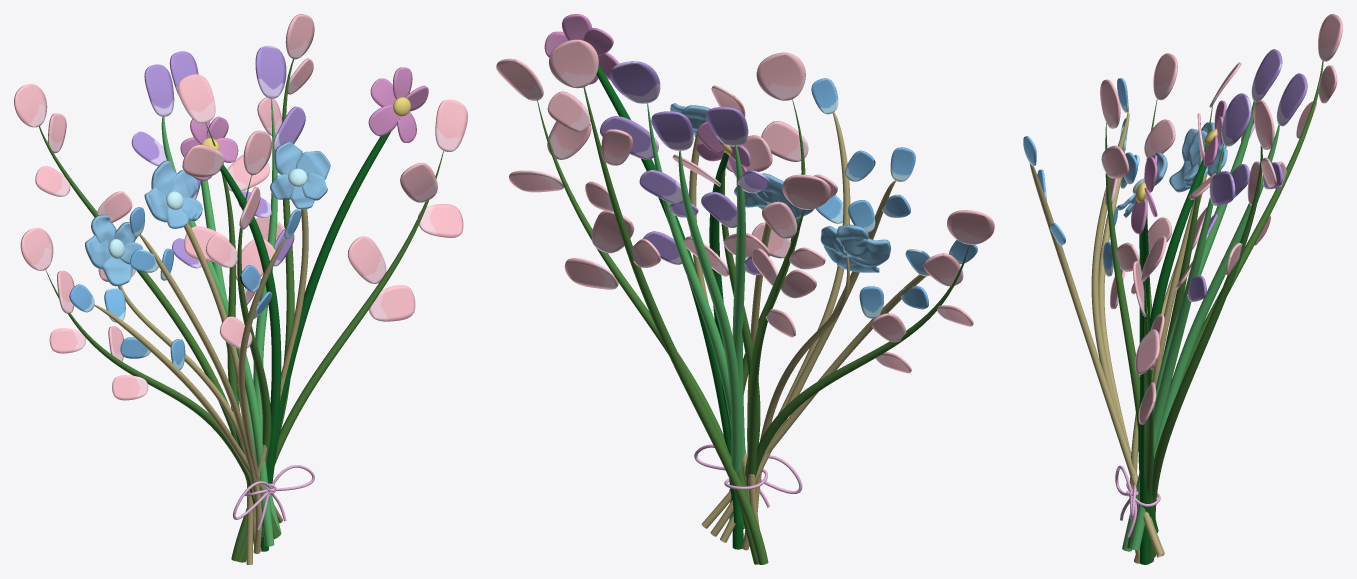
The model's file is bouqet.glb.
3 renders of one model, left to right at view 1: azimuth 30°, elevation 25°; view 2: azimuth 150°, elevation 25°; view 3: azimuth 270°, elevation 25°, orthographic. The views are drawn at different scales.
Visible parts, largest first — view 1: Plane.015, Plane.043, Plane.057, Plane.040, NurbsPath.006, NurbsPath.007, NurbsPath.017, NurbsPath.008, NurbsPath.004, NurbsPath.012, NurbsPath.019, NurbsPath.005 (+33 smaller); view 2: Plane.043, Plane.057, NurbsPath.018, Plane.015, NurbsPath.009, Plane.040, NurbsPath.008, NurbsPath.017, NurbsPath.010, NurbsPath.005, NurbsPath.004, NurbsPath.006 (+29 smaller); view 3: Plane.043, NurbsPath.009, NurbsPath.018, NurbsPath.008, NurbsPath.011, Plane.015, Plane.057, NurbsPath.019, NurbsPath.012, NurbsPath.007, NurbsPath.006, NurbsPath.013 (+21 smaller).
Boxes of the visible parts, x1,y1,x2,y2 form: Plane.015: [85, 142, 330, 286]; Plane.043: [131, 45, 305, 268]; Plane.057: [69, 207, 301, 369]; Plane.040: [180, 67, 428, 180]; NurbsPath.006: [260, 132, 390, 551]; NurbsPath.007: [220, 165, 281, 479]; NurbsPath.017: [243, 151, 443, 562]; NurbsPath.008: [253, 98, 277, 546]; NurbsPath.004: [39, 126, 262, 528]; NurbsPath.012: [139, 234, 256, 498]; NurbsPath.019: [236, 175, 271, 562]; NurbsPath.005: [45, 270, 278, 539]; Plane.043: [600, 61, 769, 275]; Plane.057: [811, 78, 977, 318]; NurbsPath.018: [583, 87, 768, 564]; Plane.015: [670, 103, 890, 272]; NurbsPath.009: [678, 151, 741, 519]; Plane.040: [544, 14, 750, 177]; NurbsPath.008: [647, 103, 745, 457]; NurbsPath.017: [536, 98, 758, 564]; NurbsPath.010: [732, 144, 745, 527]; NurbsPath.005: [755, 244, 969, 475]; NurbsPath.004: [743, 209, 804, 528]; NurbsPath.006: [596, 64, 743, 549]; Plane.043: [1187, 49, 1307, 301]; NurbsPath.009: [1131, 124, 1279, 550]; NurbsPath.018: [1152, 146, 1262, 557]; NurbsPath.008: [1122, 144, 1223, 551]; NurbsPath.011: [1029, 163, 1163, 557]; Plane.015: [1117, 122, 1227, 217]; Plane.057: [1023, 78, 1139, 276]; NurbsPath.019: [1105, 123, 1139, 430]; NurbsPath.012: [1091, 111, 1164, 554]; NurbsPath.007: [1138, 160, 1206, 532]; NurbsPath.006: [1139, 216, 1150, 564]; NurbsPath.013: [1098, 150, 1163, 556].
Bounding box in the file's own units: 7.23 × 7.46 × 4.18.
12 materials, 3 textured.
